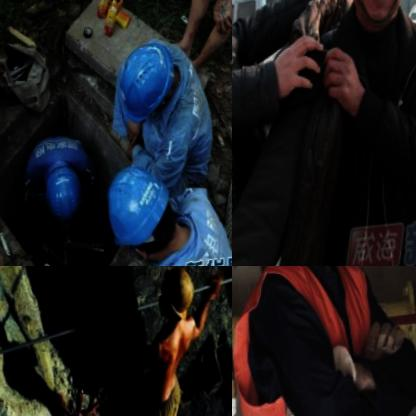helmet: (100, 158, 188, 264), (107, 38, 195, 133), (152, 266, 203, 326), (40, 162, 92, 219)
